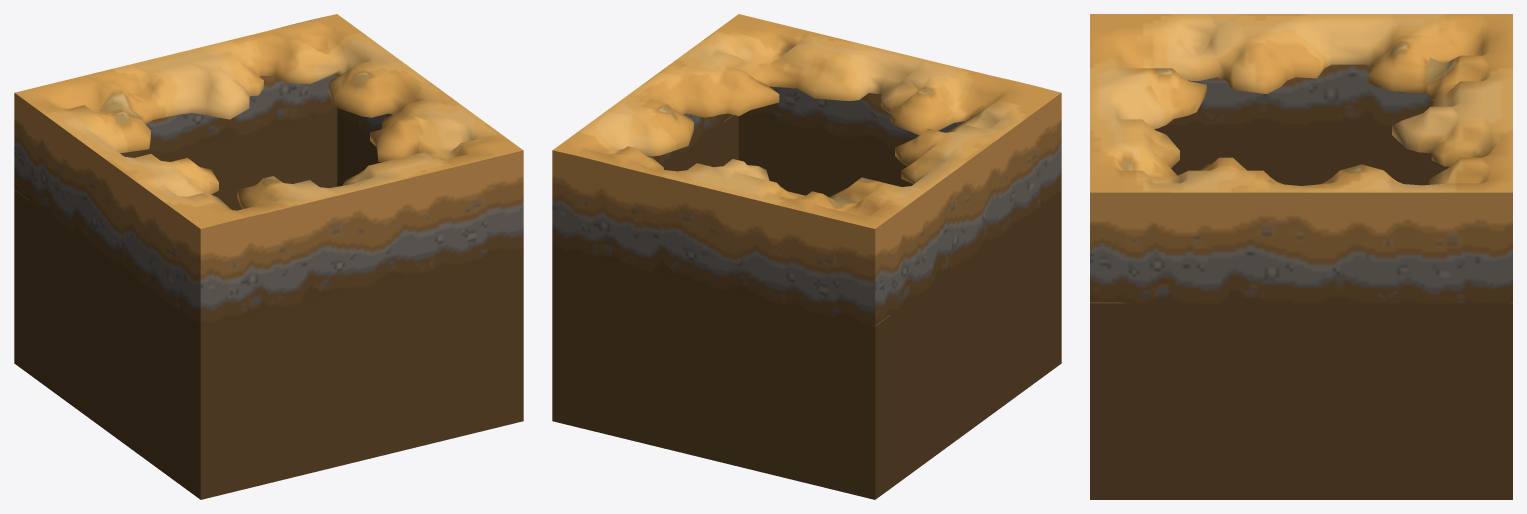
File: Modulo_vacio.FBX
The picture shows the model from 3 angles, left to right: view 1: azimuth 30°, elevation 25°; view 2: azimuth 150°, elevation 25°; view 3: azimuth 270°, elevation 25°; orthographic projection. The views are drawn at different scales.
Visible parts, largest first — view 1: Modulo vacio002; view 2: Modulo vacio002; view 3: Modulo vacio002.
Part boxes in pixels (box(x1,y1,x2,y2)): Modulo vacio002: box(14, 14, 523, 499); Modulo vacio002: box(552, 14, 1061, 499); Modulo vacio002: box(1090, 14, 1512, 499).
Size of the model in its own units: 100 by 80.34 by 100.
